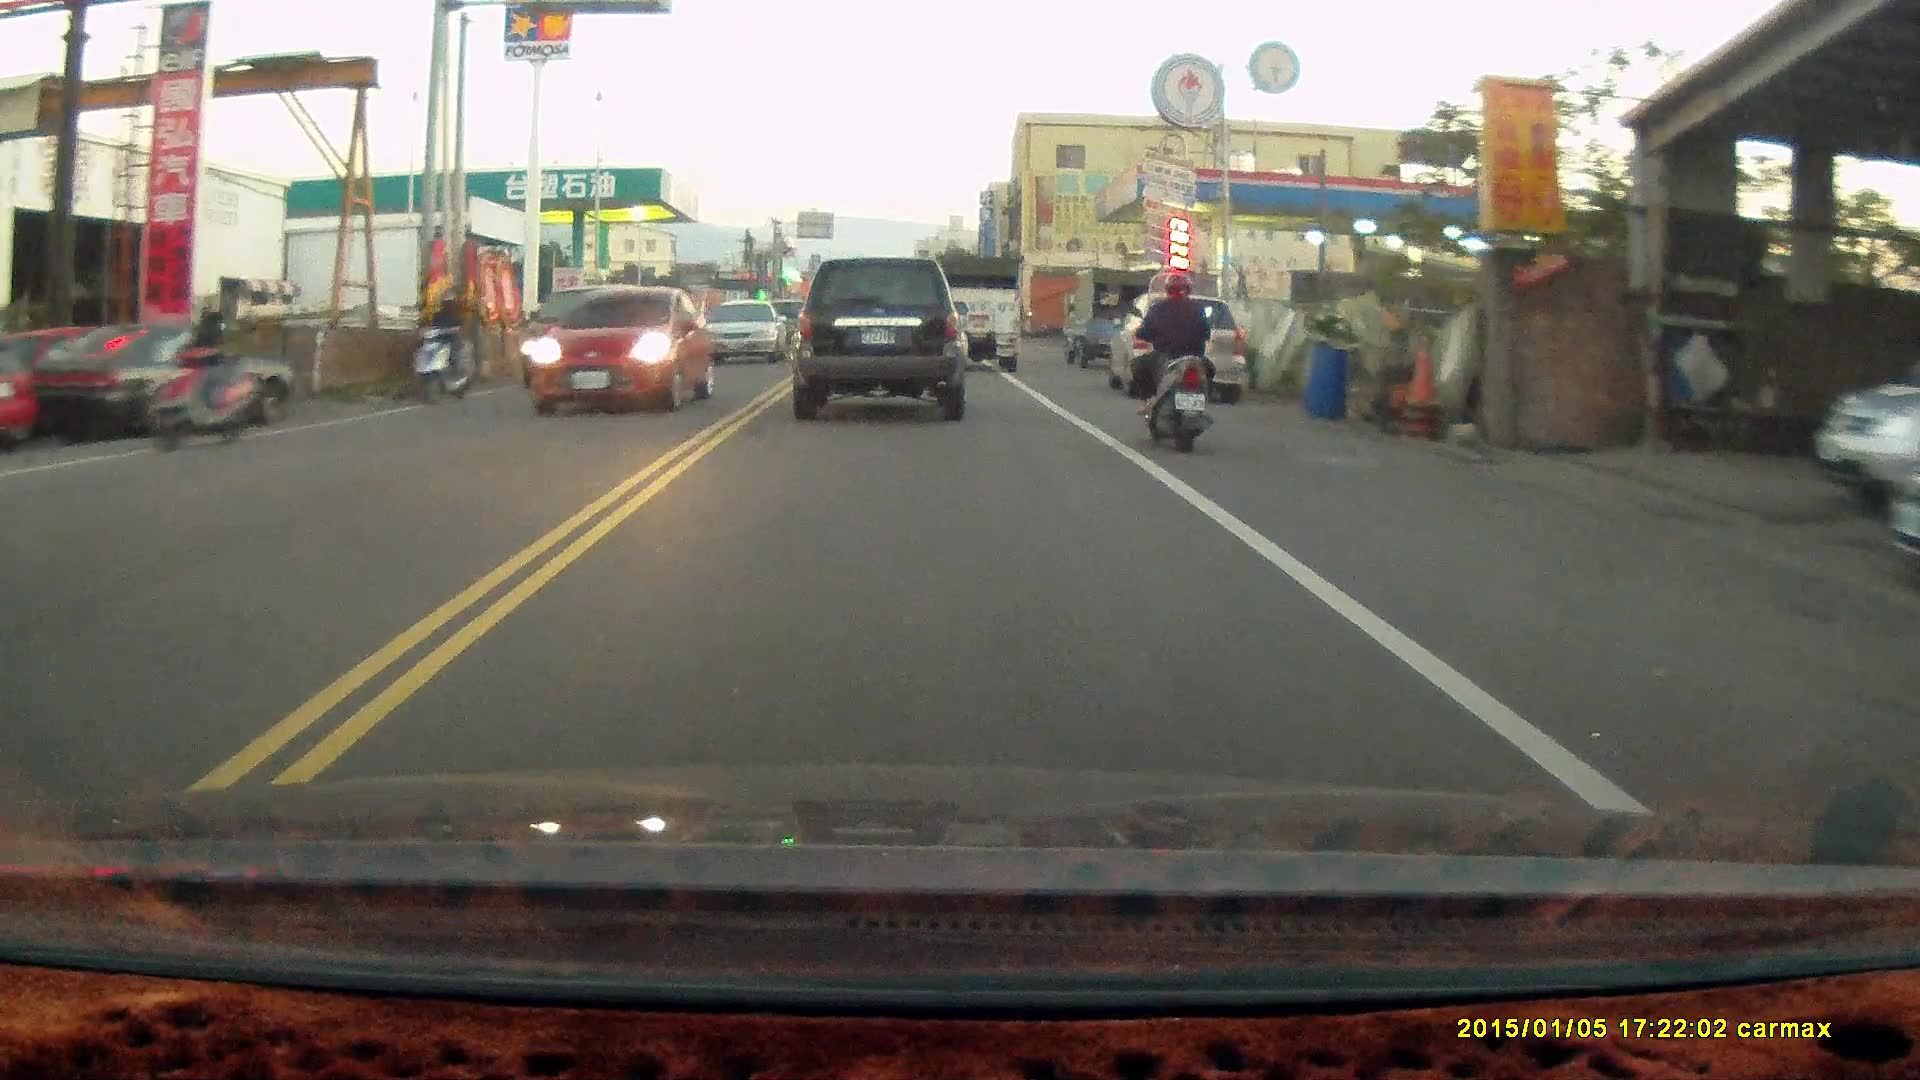rider: (143, 288, 258, 450), (1126, 267, 1222, 450), (398, 291, 470, 408)
vehicle: (14, 323, 286, 444), (789, 255, 968, 421), (529, 286, 715, 416), (1107, 292, 1253, 402), (519, 284, 656, 390), (930, 251, 1021, 371), (699, 301, 790, 365)
